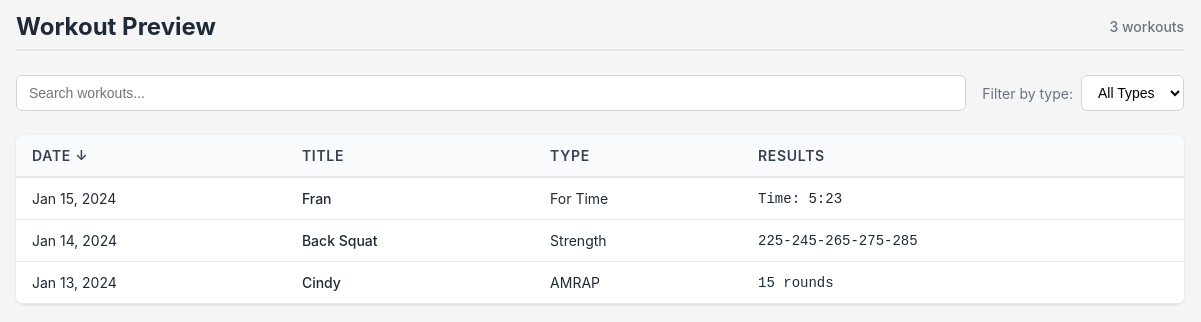
Test case: ExportPreview › Sorting › should sort by date ascending when date header clicked
Click the column heading "Date ↓" at (54, 156), box left=16, top=135, right=286, bottom=177
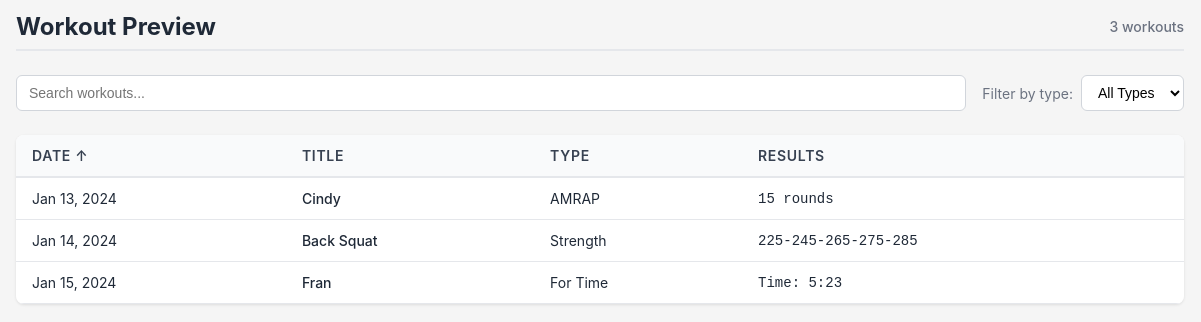
Check: the text "Cindy" is shown, box left=286, top=177, right=534, bottom=220
